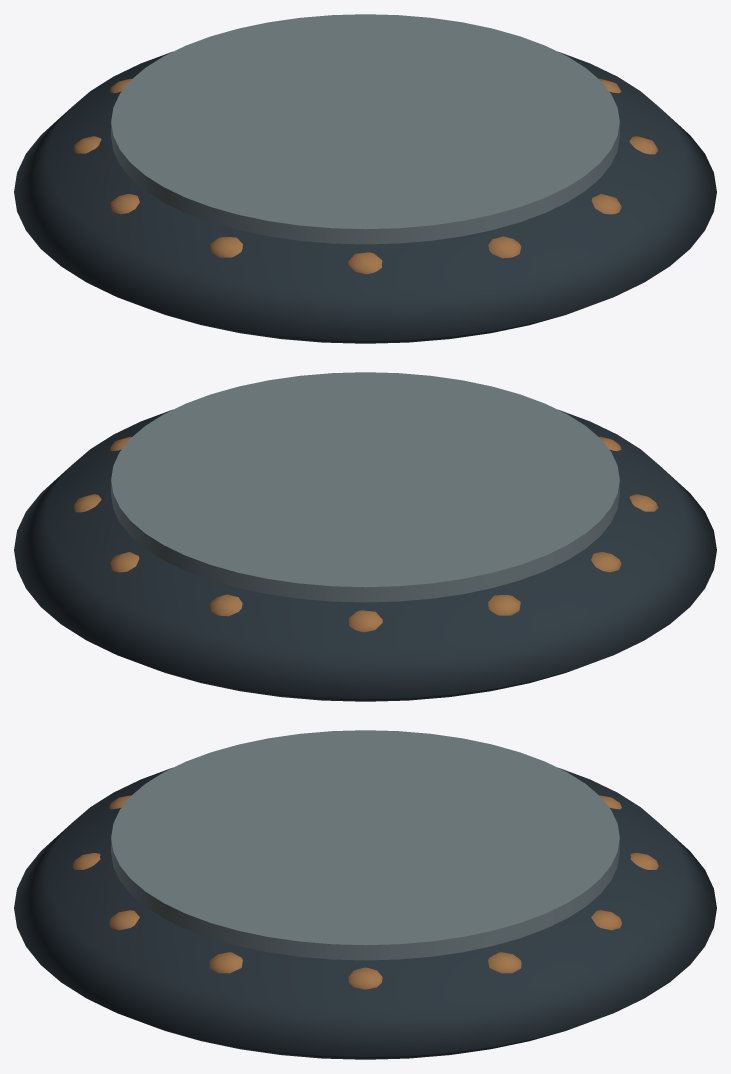
File: boss_turret_base.glb
3 renders of one model, top to bottom at view 1: azimuth 30°, elevation 25°; view 2: azimuth 150°, elevation 25°; view 3: azimuth 270°, elevation 25°, orthographic.
Visible parts, largest first — view 1: boss_turret_base; view 2: boss_turret_base; view 3: boss_turret_base.
Boxes of the visible parts, x1=… form: boss_turret_base: x1=14, y1=14, x2=716, y2=343; boss_turret_base: x1=14, y1=372, x2=716, y2=701; boss_turret_base: x1=14, y1=730, x2=716, y2=1059.
Bounding box in the file's own units: 7.96 × 1.04 × 7.96.
